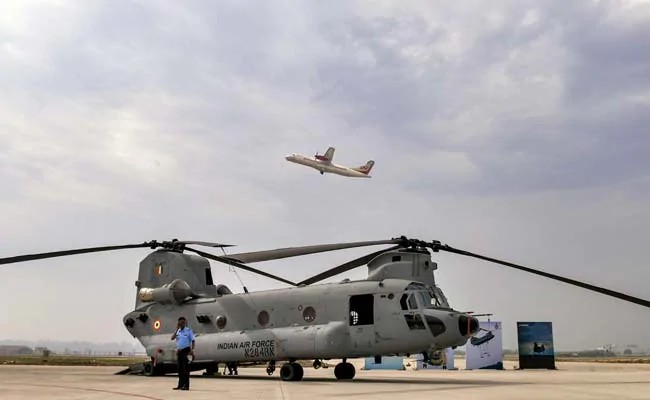chinook: (107, 226, 513, 379)
